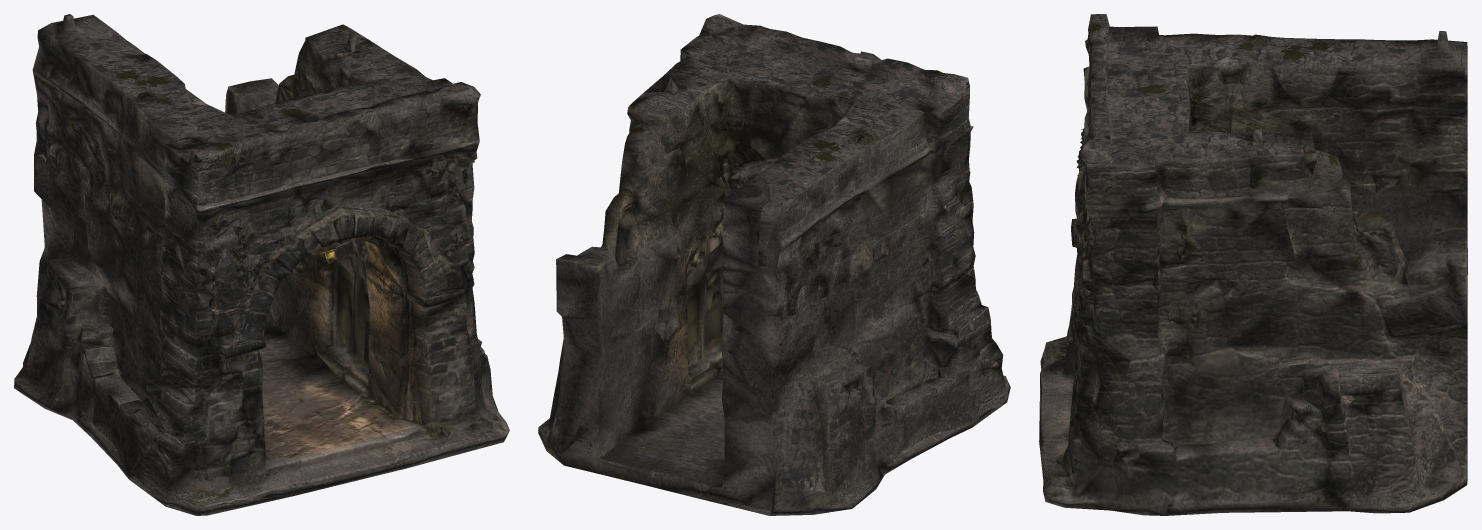
Rendered from fort_m_volcano_gate.glb.
3 views of the same model, side by side, from view 1: azimuth 30°, elevation 25°; view 2: azimuth 150°, elevation 25°; view 3: azimuth 270°, elevation 25° (orthographic). The views are drawn at different scales.
Parts seen in each view (by area): view 1: fort_m_volcano_gate; view 2: fort_m_volcano_gate; view 3: fort_m_volcano_gate.
Boxes of the visible parts, x1=… form: fort_m_volcano_gate: x1=14, y1=14, x2=509, y2=515; fort_m_volcano_gate: x1=538, y1=14, x2=1010, y2=515; fort_m_volcano_gate: x1=1039, y1=14, x2=1467, y2=515.
Size of the model in its own units: 1.85 by 1.71 by 1.9.
Materials: 1 (1 with a texture image).
